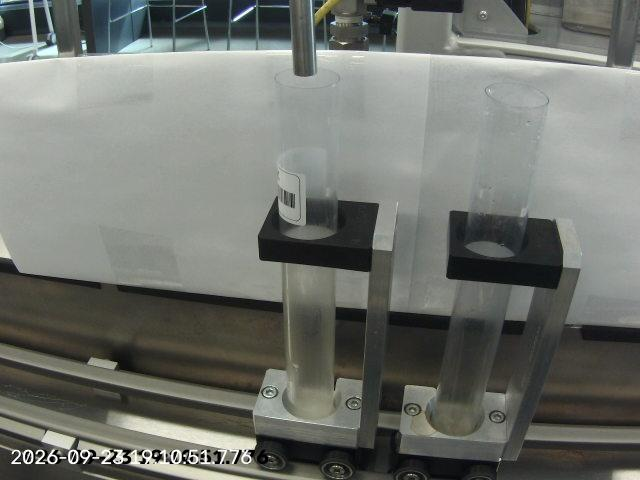vial: (428, 82, 551, 437), (271, 66, 341, 421)
